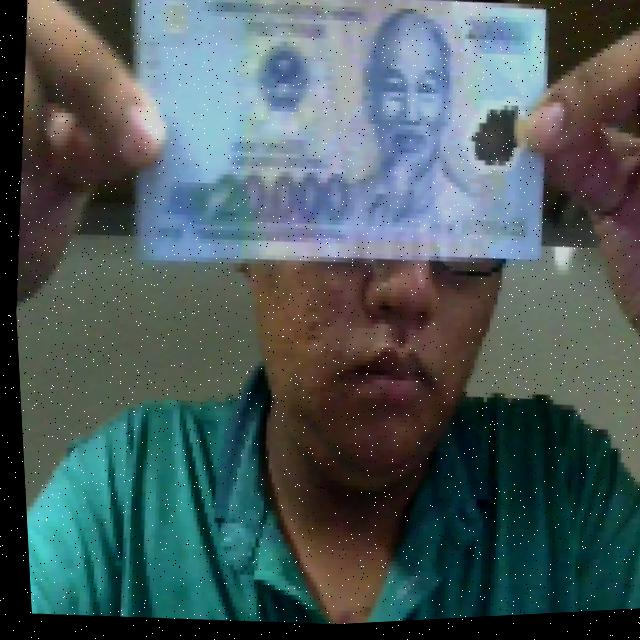20 000 VND: (105, 0, 568, 302)
